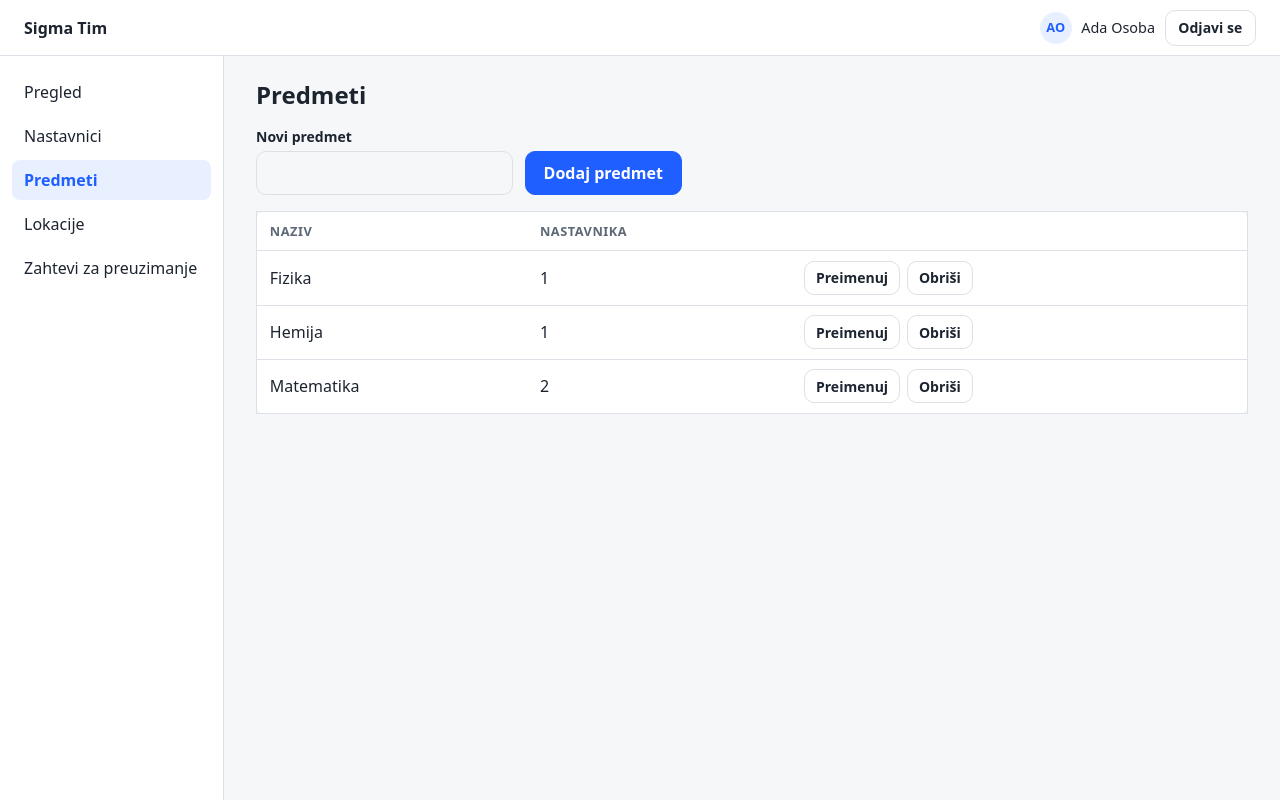
subjects › refuses to rename a subject to the name of another
Click the button "Preimenuj" in the row of "Hemija" at point(852, 332), box [804,315,900,349]
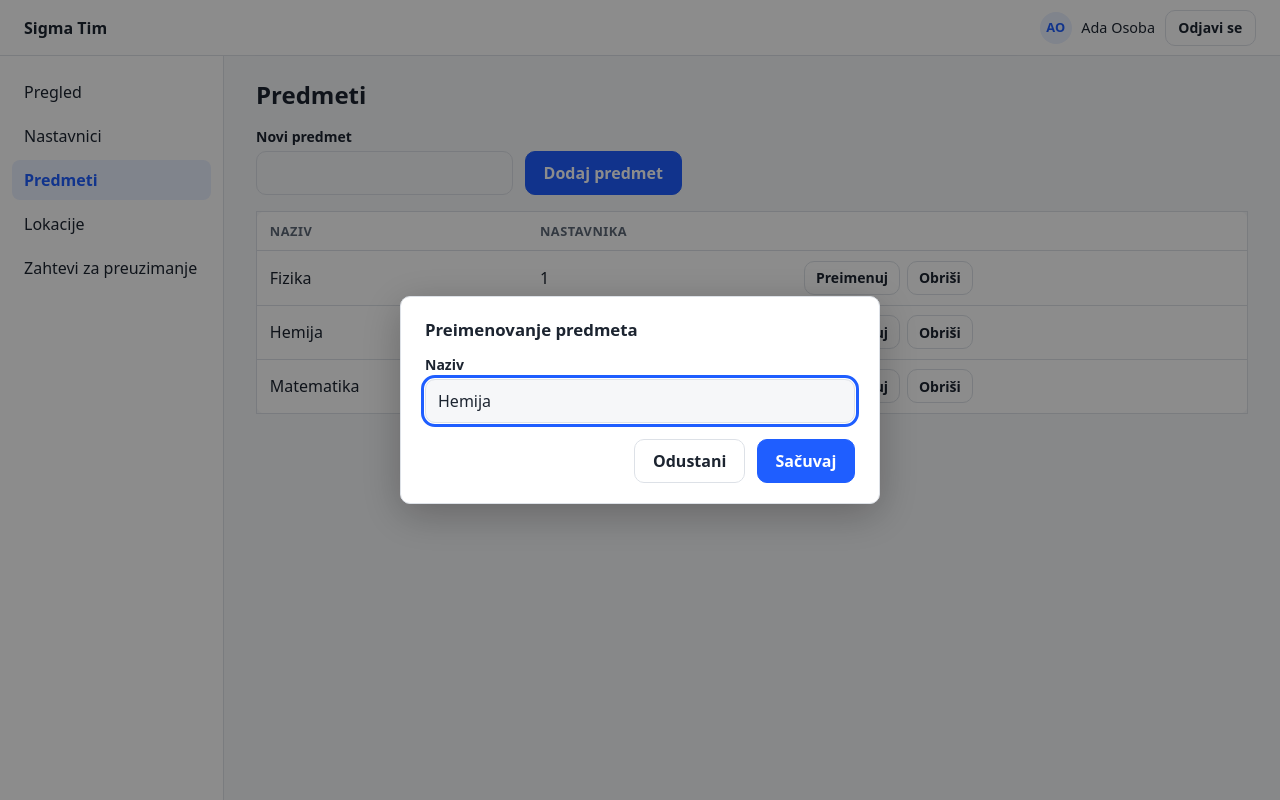
Replace the text in the field labelled "Naziv" with "FIZIKA" at point(640, 401), box [425,379,855,423]
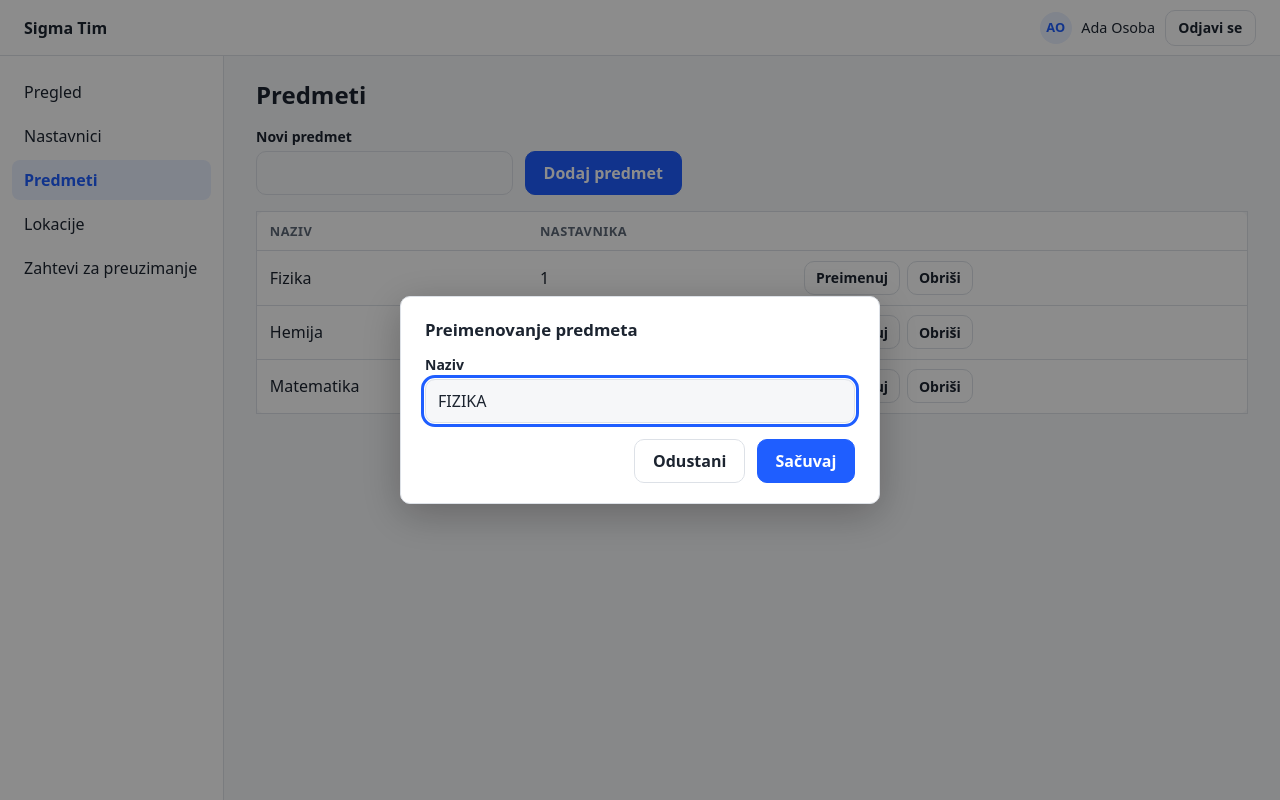
Click the button "Sačuvaj" at point(806, 461), box [757,439,855,483]
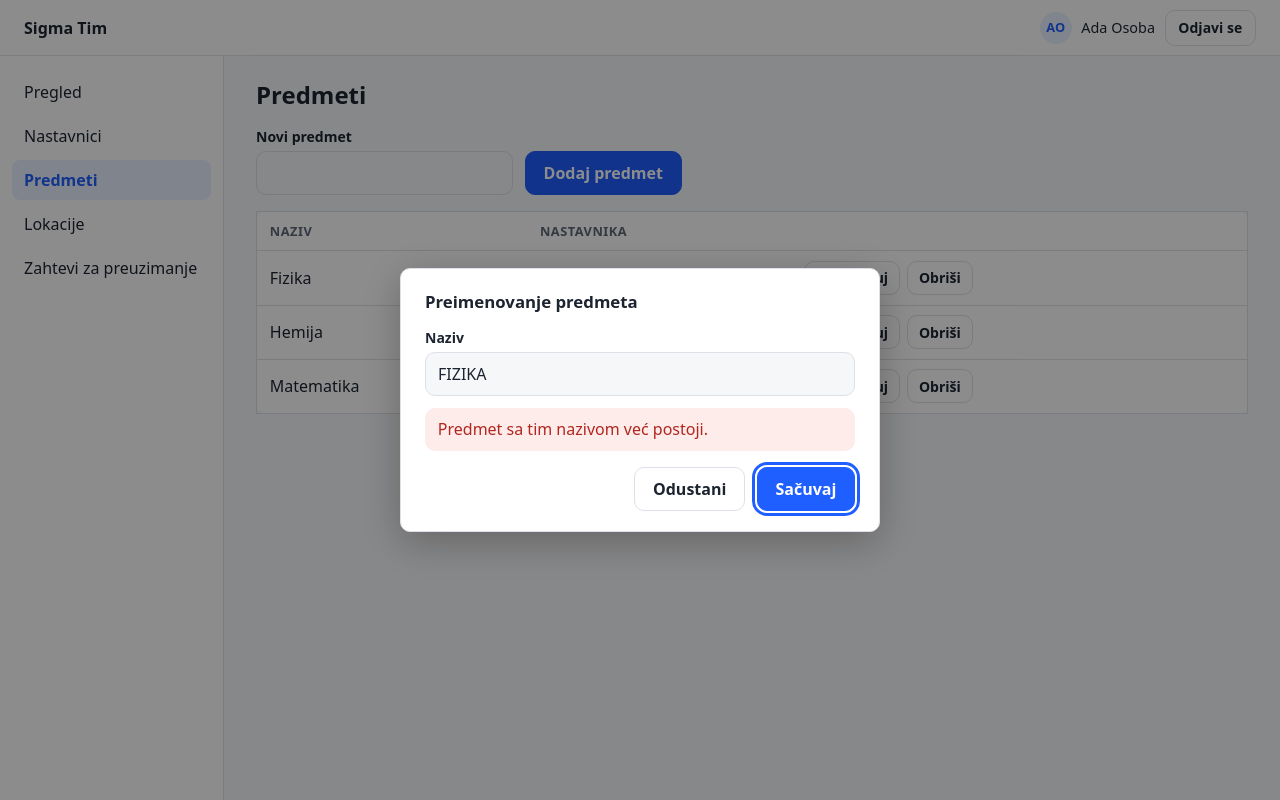
Check: the message reads "Predmet sa tim nazivom već postoji.", box [438,418,708,440]
